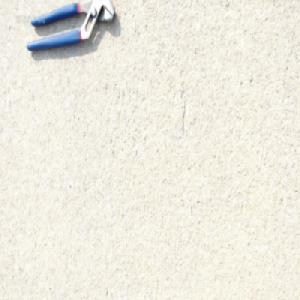Pliers: (25, 0, 117, 53)
